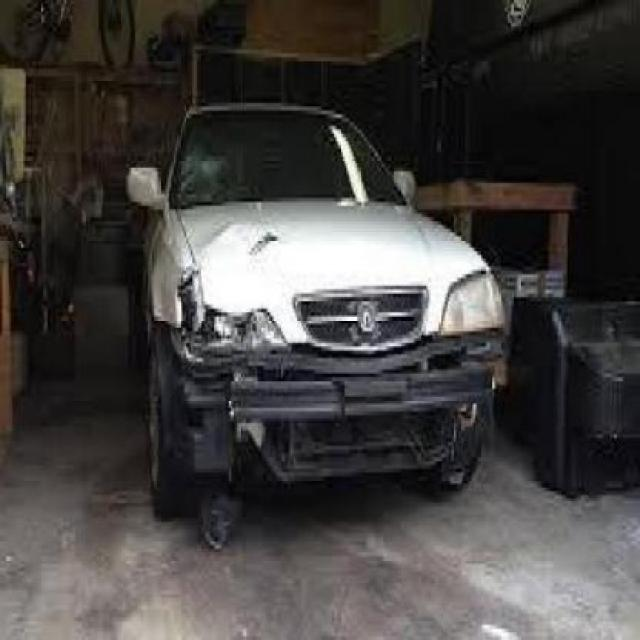damage: (177, 226, 510, 499)
